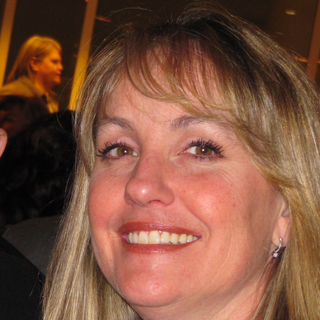eye: (179, 136, 225, 163), (97, 139, 140, 164)
